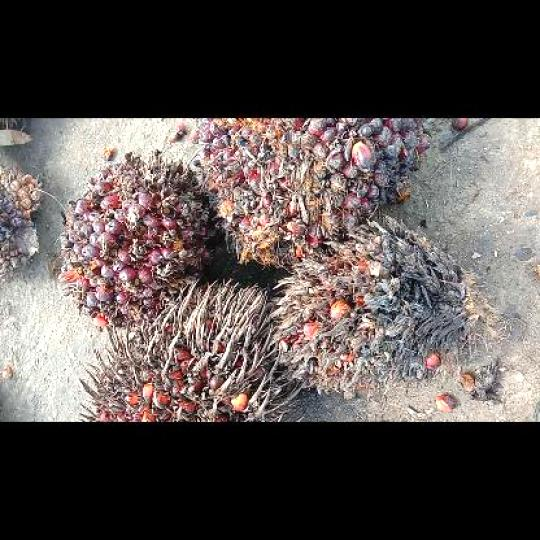masak: (191, 117, 429, 267), (57, 152, 221, 327)
terlalu masak: (267, 215, 486, 395), (78, 278, 300, 420)
